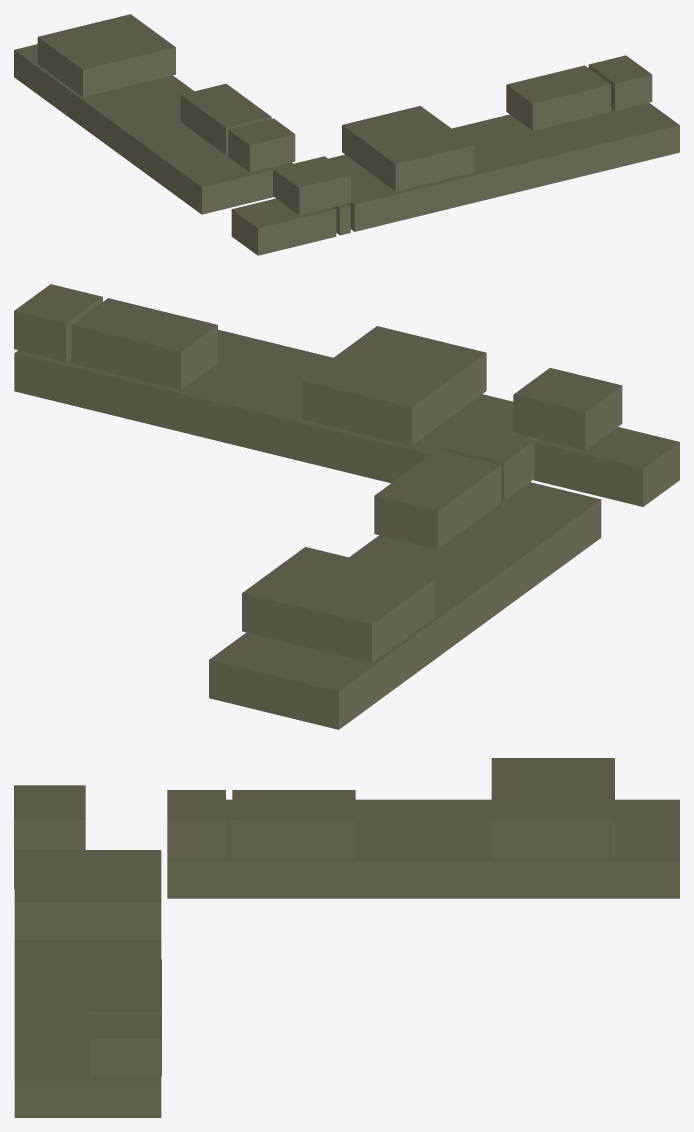
The model's file is SM_PretilEsquina_v3_Tablon_e2_MuyDanado_LOD1.fbx.
3 renders of one model, top to bottom at view 1: azimuth 30°, elevation 25°; view 2: azimuth 150°, elevation 25°; view 3: azimuth 270°, elevation 25°, orthographic. The views are drawn at different scales.
Visible parts, largest first — view 1: SM_pretil_azotea_v34_LOD1; view 2: SM_pretil_azotea_v34_LOD1; view 3: SM_pretil_azotea_v34_LOD1.
Boxes of the visible parts, x1,y1,x2,y2 form: SM_pretil_azotea_v34_LOD1: (14, 14, 679, 255); SM_pretil_azotea_v34_LOD1: (14, 284, 679, 729); SM_pretil_azotea_v34_LOD1: (14, 758, 679, 1117).
Size of the model in its own units: 4.36 by 0.57 by 4.37.
